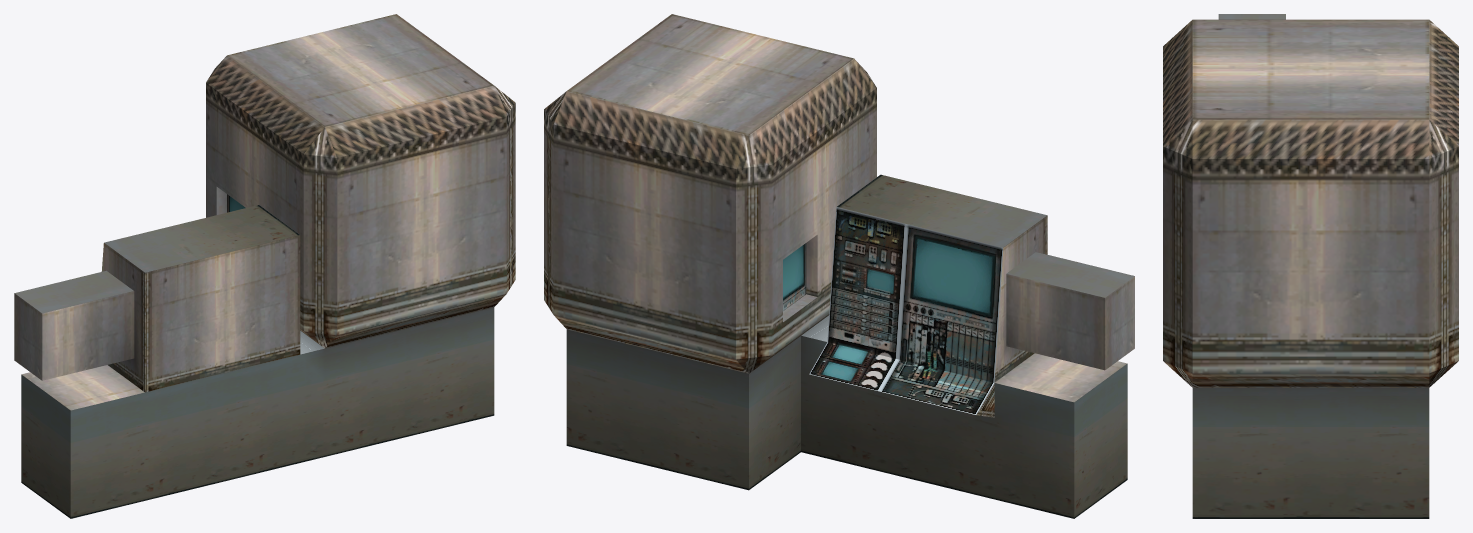
The model's file is M11_LABKIT03.glb.
3 views of the same model, side by side, from view 1: azimuth 30°, elevation 25°; view 2: azimuth 150°, elevation 25°; view 3: azimuth 270°, elevation 25° (orthographic). The views are drawn at different scales.
Visible parts, largest first — view 1: M11_LABKIT03; view 2: M11_LABKIT03; view 3: M11_LABKIT03.
Boxes of the visible parts, left/top/right/bottom form: M11_LABKIT03: left=14, top=14, right=515, bottom=518; M11_LABKIT03: left=544, top=14, right=1134, bottom=518; M11_LABKIT03: left=1163, top=14, right=1458, bottom=518.
Size of the model in its own units: 4.37 by 2.98 by 2.
Materials: 3 (3 with a texture image).
